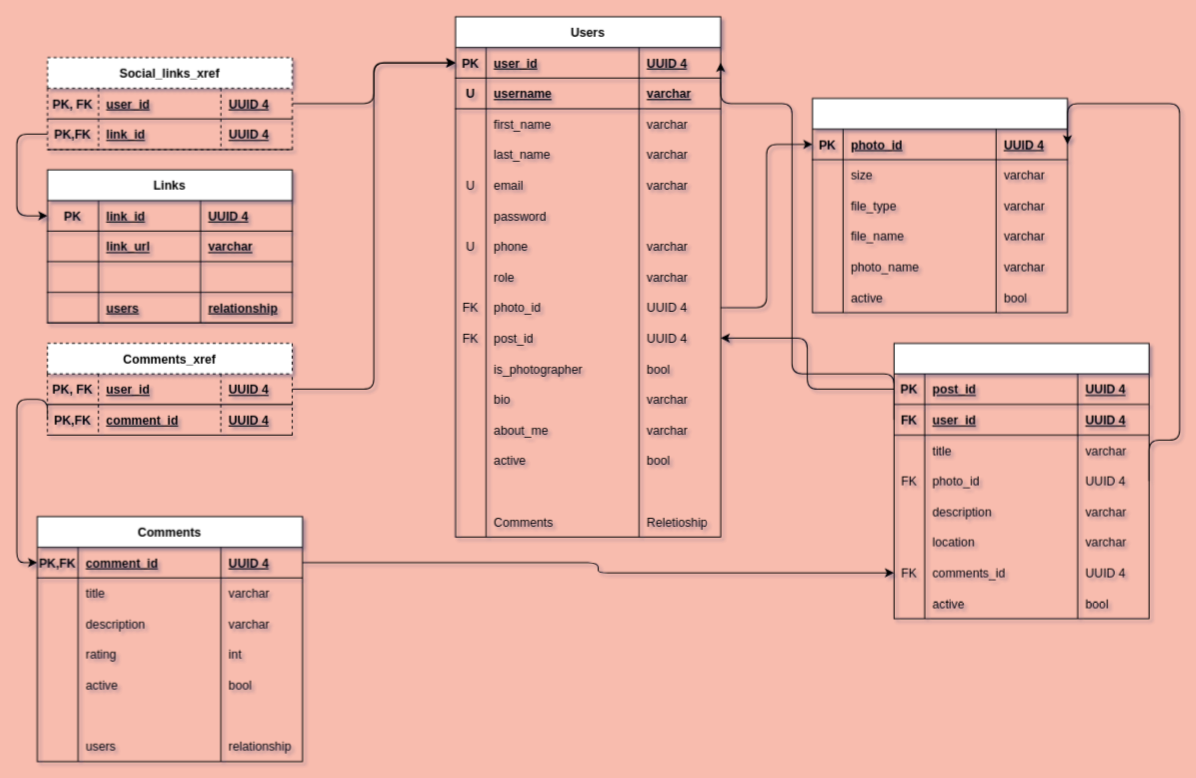
Image size: 1196x778. Some labels were removed from this diagram. The box of each missing label's shape, as (x1, y1, x2, y2) in pixels:
Photos: (811, 97, 1067, 313)
Posts: (893, 342, 1149, 619)
